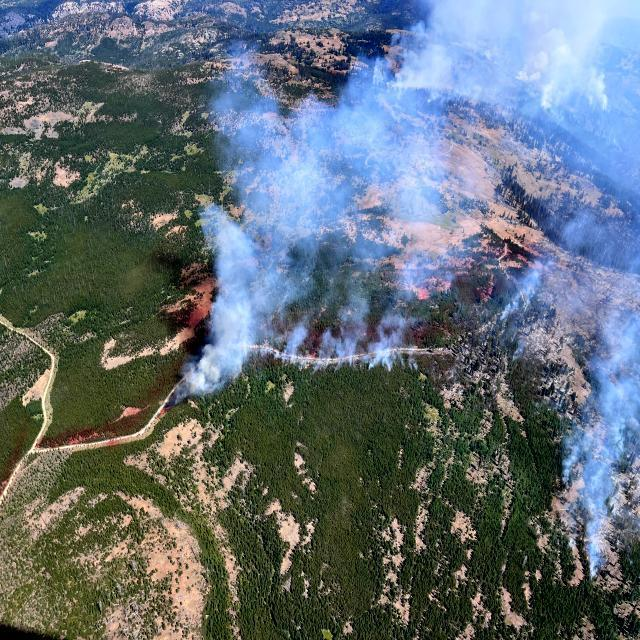Smoke: (161, 0, 640, 394)
